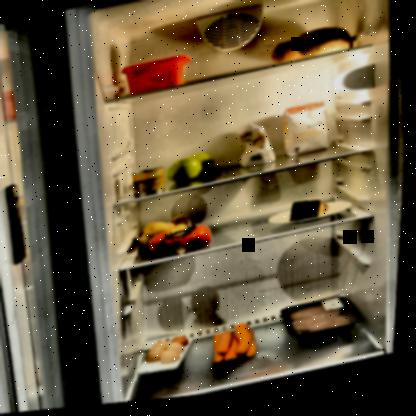apple: (168, 154, 220, 189)
butter: (120, 55, 194, 101)
carrot: (210, 324, 265, 373)
cheese: (287, 200, 334, 231)
chicken: (289, 302, 358, 349)
corn: (132, 168, 168, 201)
eggs: (146, 336, 197, 373)
potato: (135, 215, 195, 253)
sweet_potato: (265, 24, 363, 73)
tomato: (150, 225, 215, 264)
